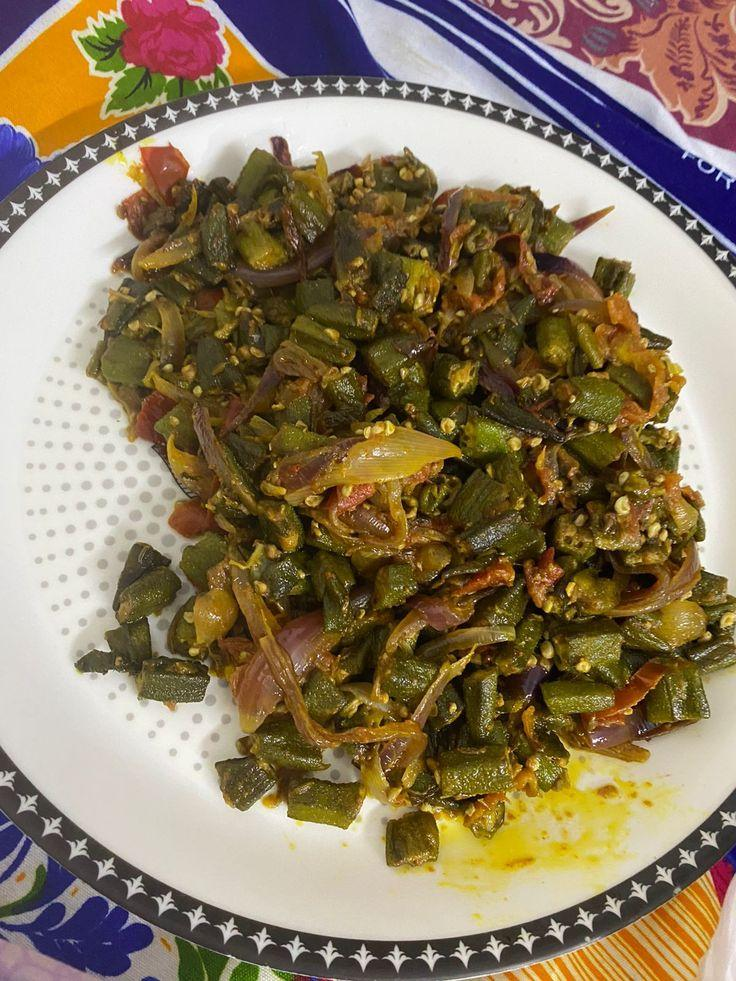bhindi: (136, 188, 649, 825)
